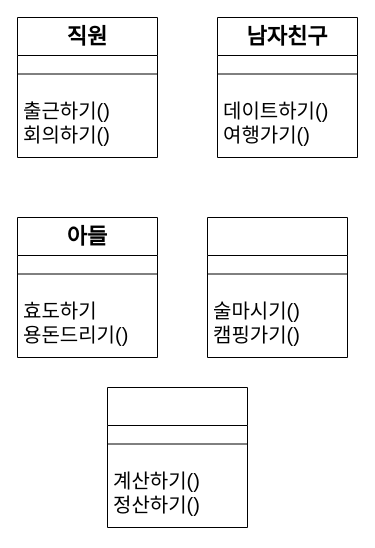
Image size: 375x548. Some labels were removed from this diagram. Here are the shapes that lost their labels. From the top down, the box of each, then its label:
(206, 216, 348, 358): 친구
(106, 386, 248, 528): 총무
